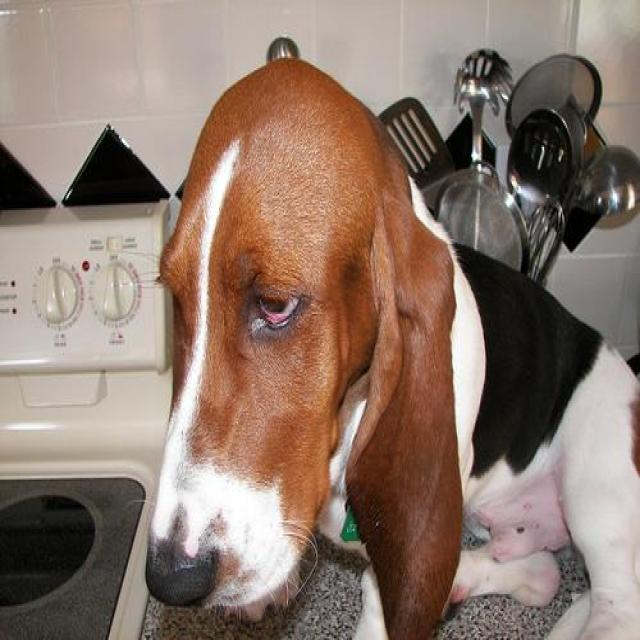basset: (143, 60, 639, 638)
